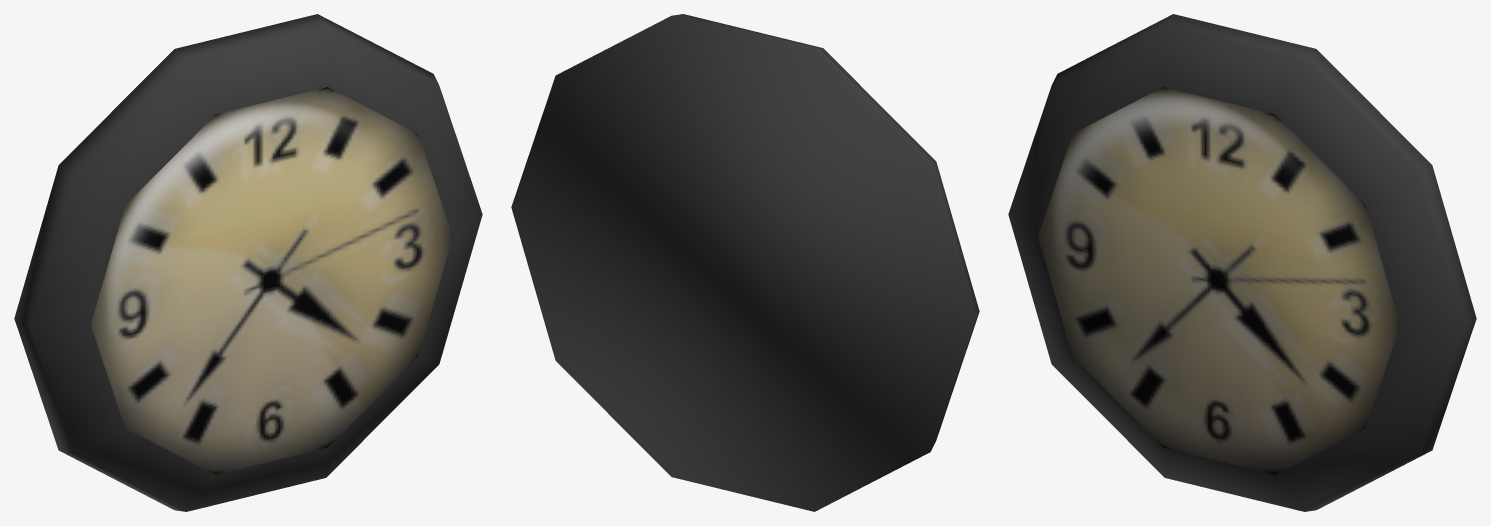
Rendered from Wall_Clock_C.FBX.
3 renders of one model, left to right at view 1: azimuth 30°, elevation 25°; view 2: azimuth 150°, elevation 25°; view 3: azimuth 330°, elevation 25°, orthographic.
Parts seen in each view (by area): view 1: Wall_Clock; view 2: Wall_Clock; view 3: Wall_Clock.
Part boxes in pixels (x1,y1,x2,y2): Wall_Clock: (14,14,482,511); Wall_Clock: (511,14,979,511); Wall_Clock: (1008,14,1476,511).
Size of the model in its own units: 130 by 124 by 12.52.
